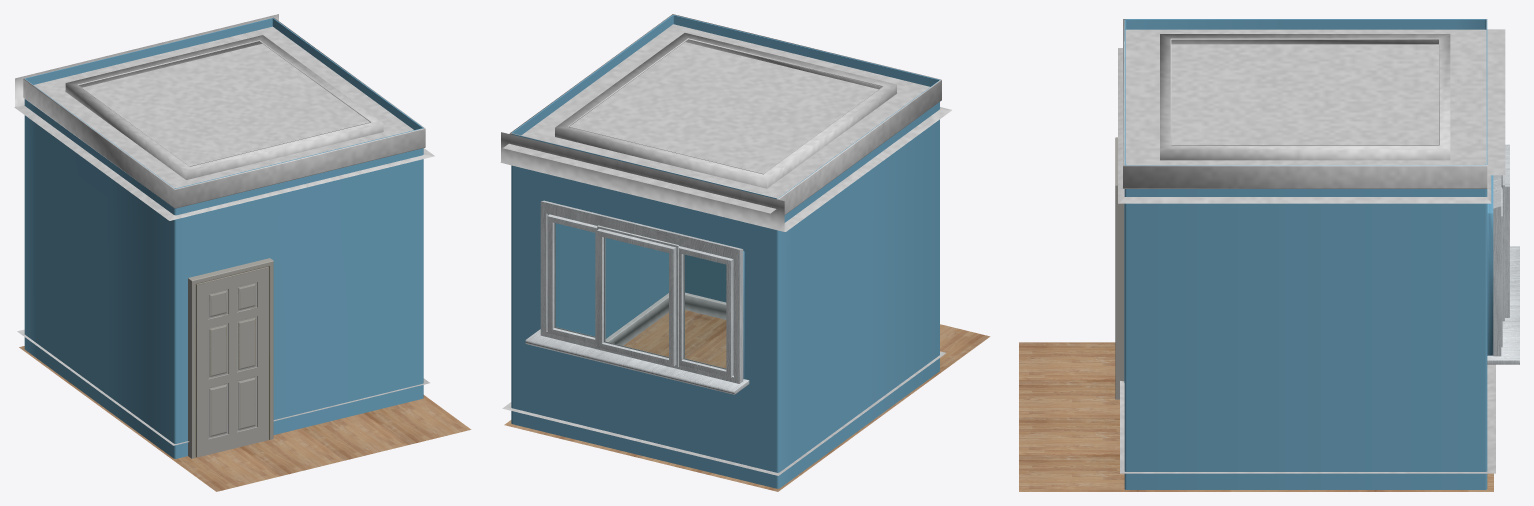
The model's file is m_empty room.FBX.
3 views of the same model, side by side, from view 1: azimuth 30°, elevation 25°; view 2: azimuth 150°, elevation 25°; view 3: azimuth 270°, elevation 25° (orthographic). The views are drawn at different scales.
Visible parts, largest first — view 1: wall, roof, door001, floor, door_frame001; view 2: wall, roof, window_glass, window_d, floor, window_l, window_r; view 3: wall, roof, floor, window_d, door_frame001.
Part boxes in pixels (x1,y1,x2,y2): wall: [24, 18, 423, 458]; roof: [14, 14, 434, 445]; door001: [196, 266, 268, 457]; floor: [19, 346, 471, 491]; door_frame001: [188, 258, 273, 458]; wall: [511, 15, 939, 488]; roof: [500, 14, 951, 475]; window_glass: [555, 223, 725, 368]; window_d: [525, 200, 749, 394]; floor: [504, 310, 990, 491]; window_l: [679, 246, 733, 377]; window_r: [547, 214, 605, 345]; wall: [1124, 19, 1493, 489]; roof: [1118, 19, 1505, 473]; floor: [1019, 342, 1493, 491]; window_d: [1487, 144, 1519, 364]; door_frame001: [1115, 137, 1124, 399].
Bounding box in the file's own units: 320 × 314 × 435.
